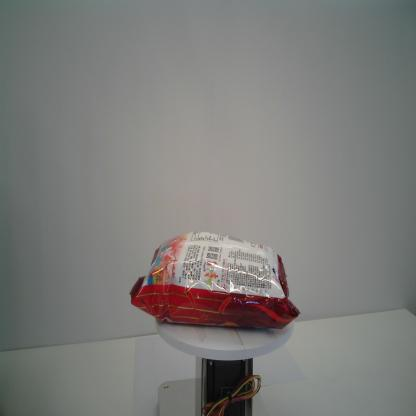Puffed Food: (129, 230, 301, 330)
